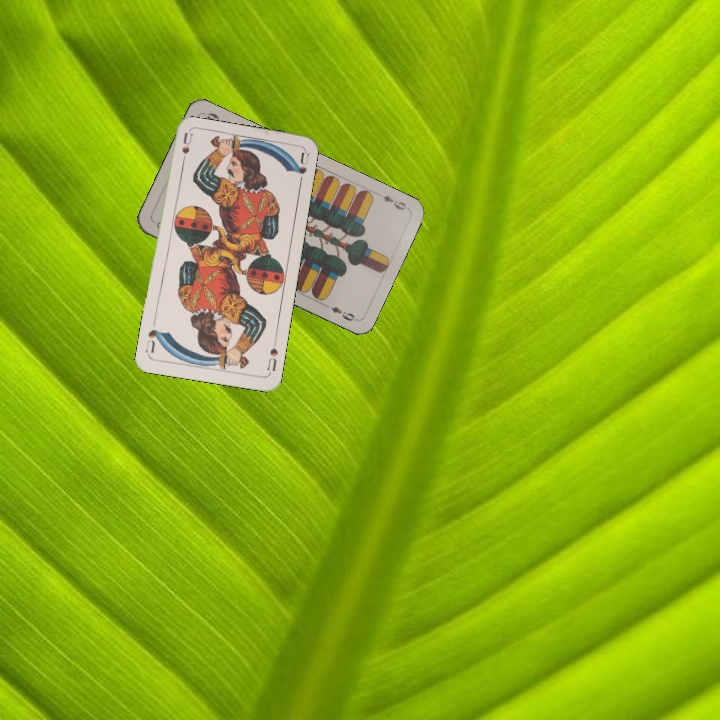E9: (378, 191, 409, 213)
SU: (177, 130, 194, 171), (263, 336, 280, 373)
